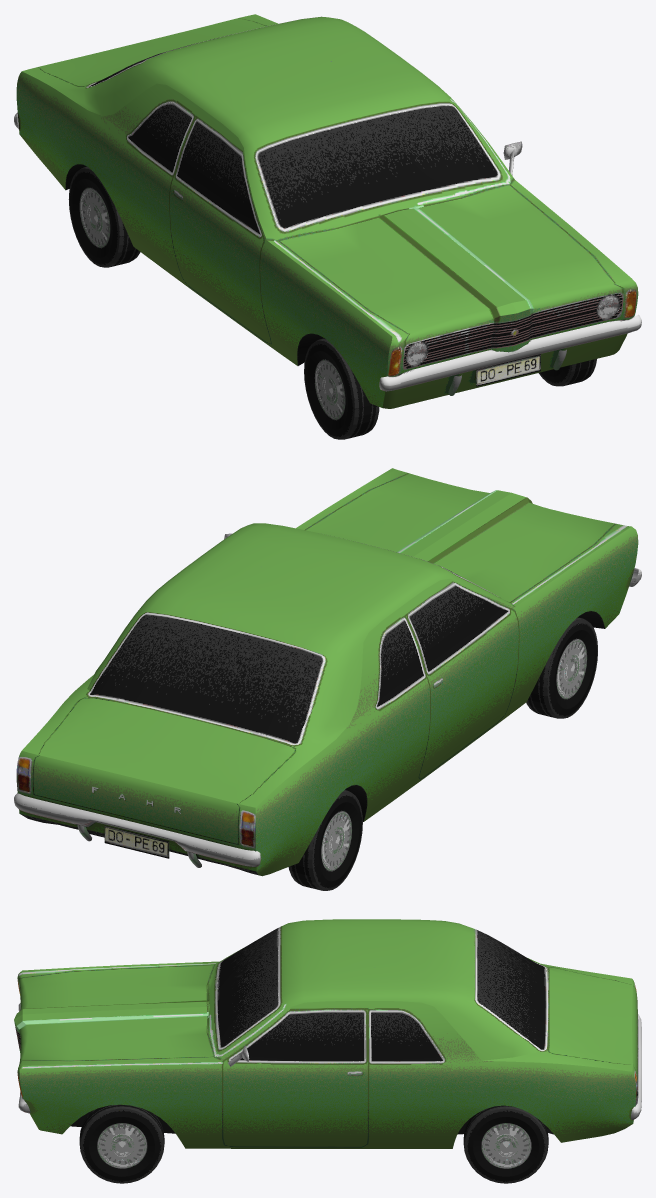
File: Taunus.fbx
3 renders of one model, top to bottom at view 1: azimuth 30°, elevation 25°; view 2: azimuth 150°, elevation 25°; view 3: azimuth 270°, elevation 25°, orthographic. The views are drawn at different scales.
Parts seen in each view (by area): view 1: Taunus, WheelRF, WheelRB, WheelLF; view 2: Taunus, WheelRF, WheelRB; view 3: Taunus, WheelLF, WheelLB.
Boxes of the visible parts, <box> form: Taunus: <box>14,14,641,408</box>; WheelRF: <box>304,338,379,439</box>; WheelRB: <box>68,166,140,267</box>; WheelLF: <box>538,359,596,386</box>; Taunus: <box>14,468,641,876</box>; WheelRF: <box>526,617,597,718</box>; WheelRB: <box>288,790,362,890</box>; Taunus: <box>14,919,641,1148</box>; WheelLF: <box>79,1104,164,1183</box>; WheelLB: <box>463,1105,548,1183</box>.
Size of the model in its own units: 183 by 140 by 435.
Materials: 1 (1 with a texture image).
